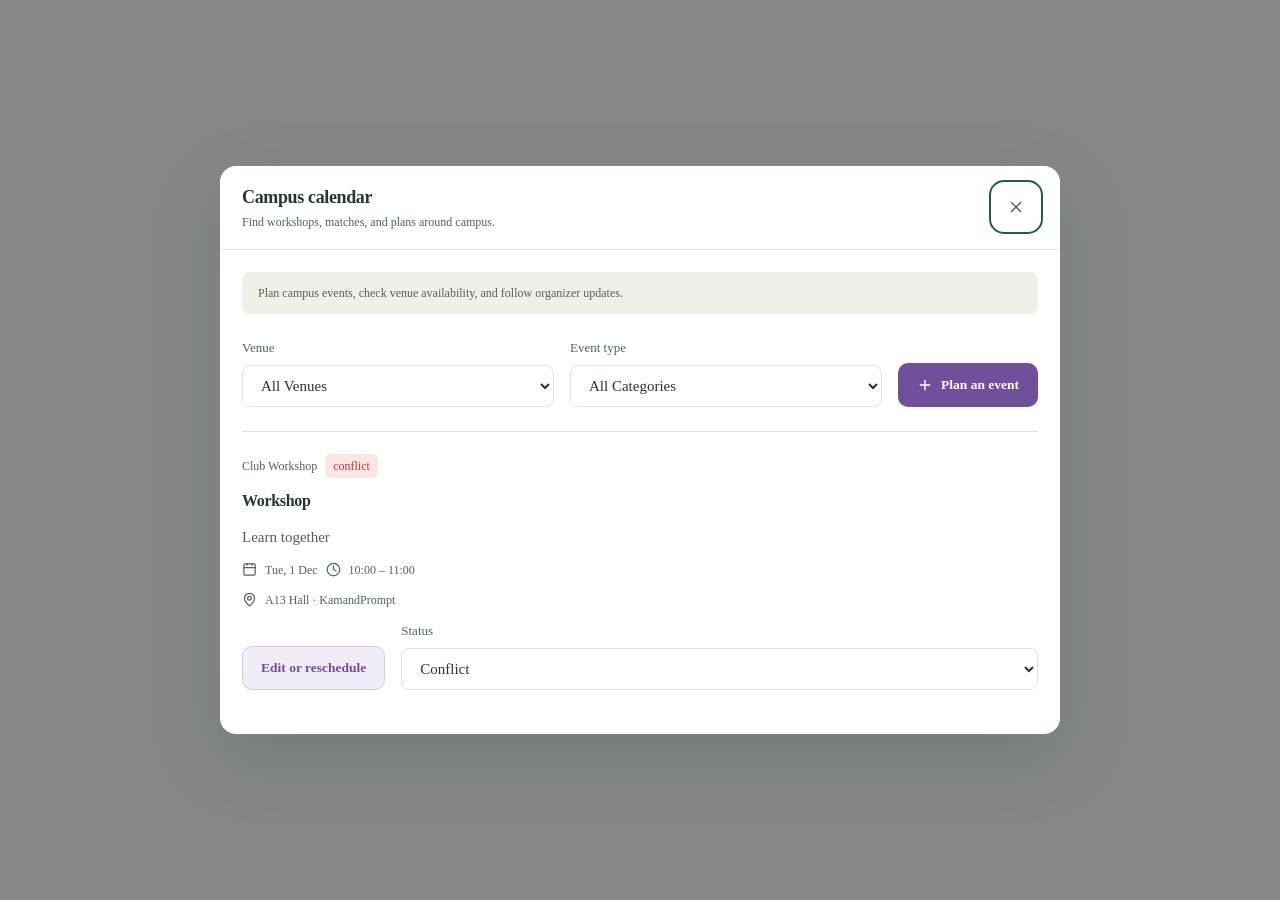
Test: a conflicting approval keeps the saved status and explains why approval failed
Select "Scheduled" in the dropdown labelled "Status" at (720, 669), box [401, 648, 1038, 690]
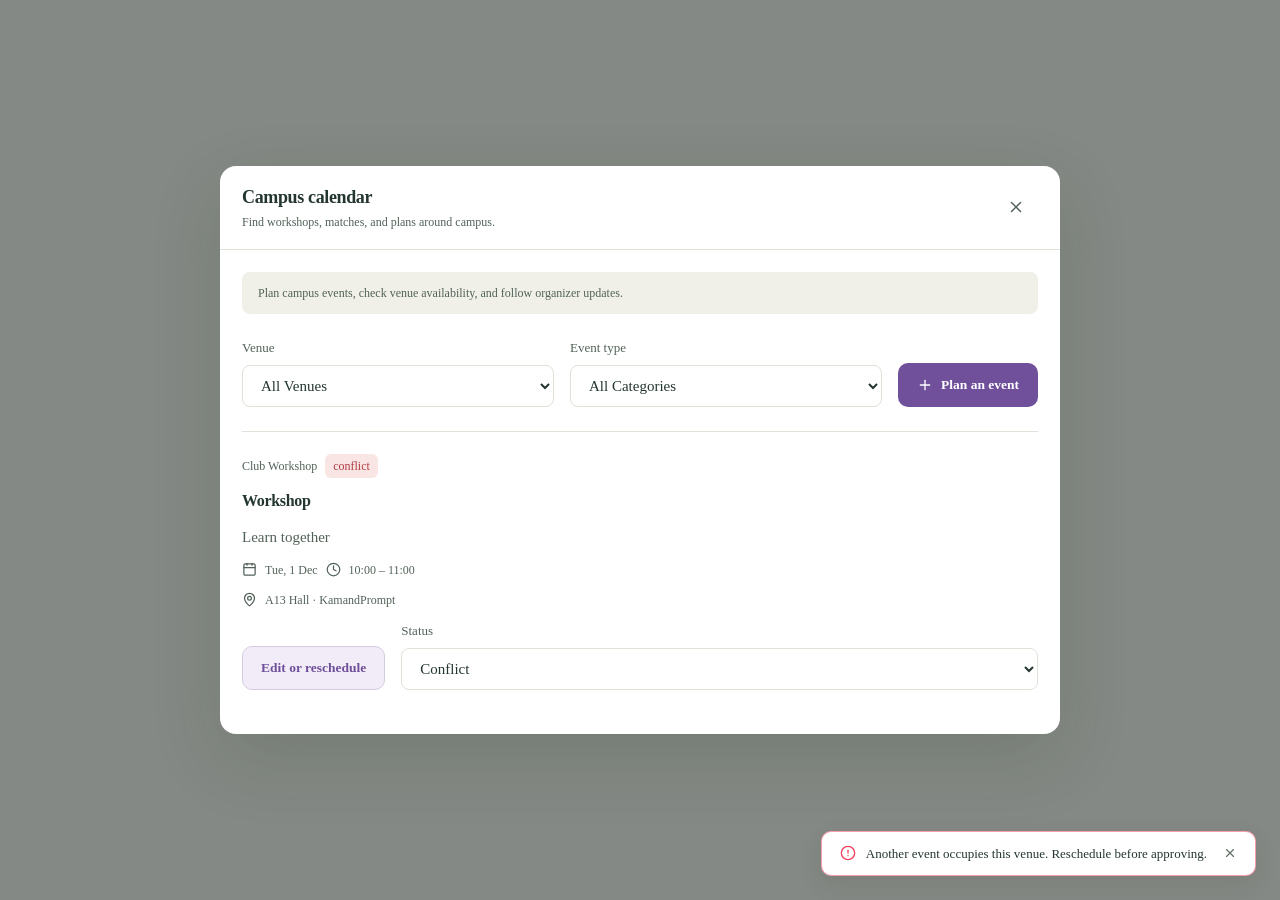
Expected: the text "Another event occupies this venue. Reschedule before approving." is shown, [866, 844, 1207, 863]
